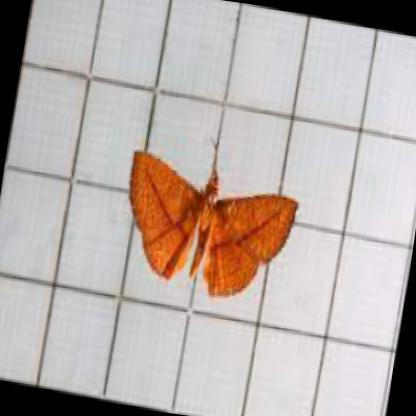Leaf Webber: (129, 149, 300, 298)
